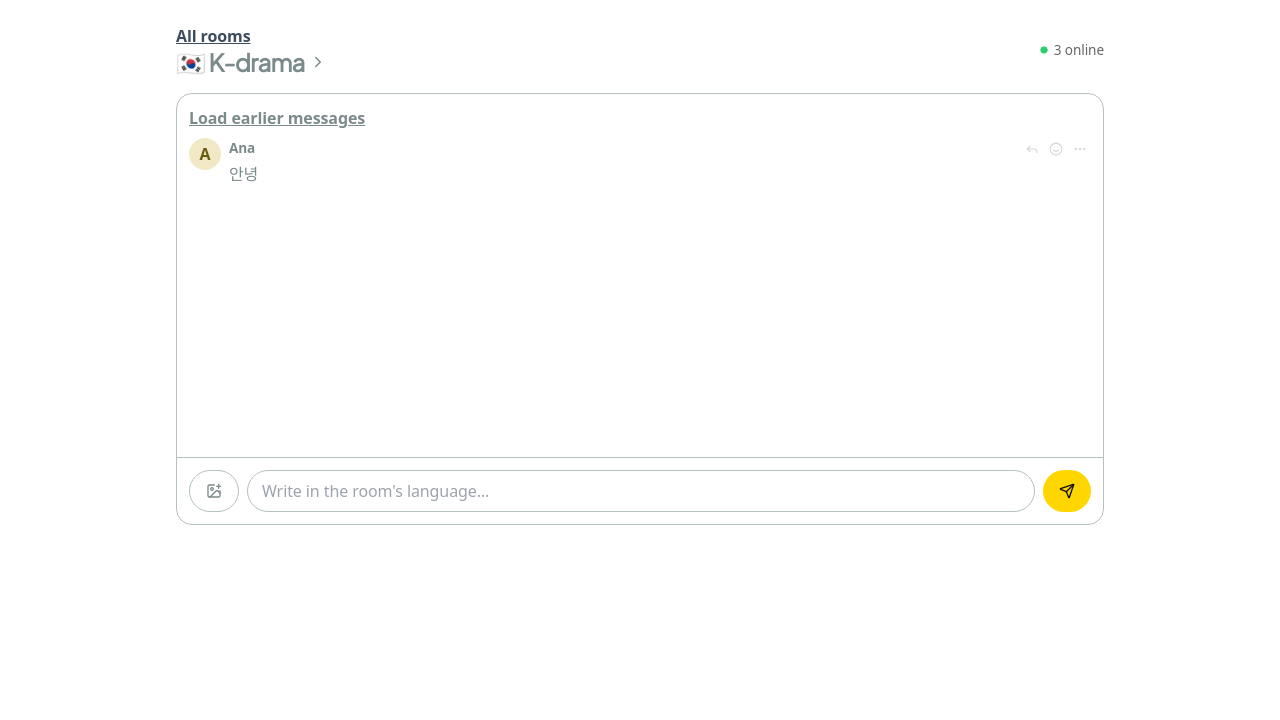
Test: room info offers no edit to ordinary members
Click the button with test id "language-room-title" at [251, 62], box x1=176 y1=48 x2=327 y2=77
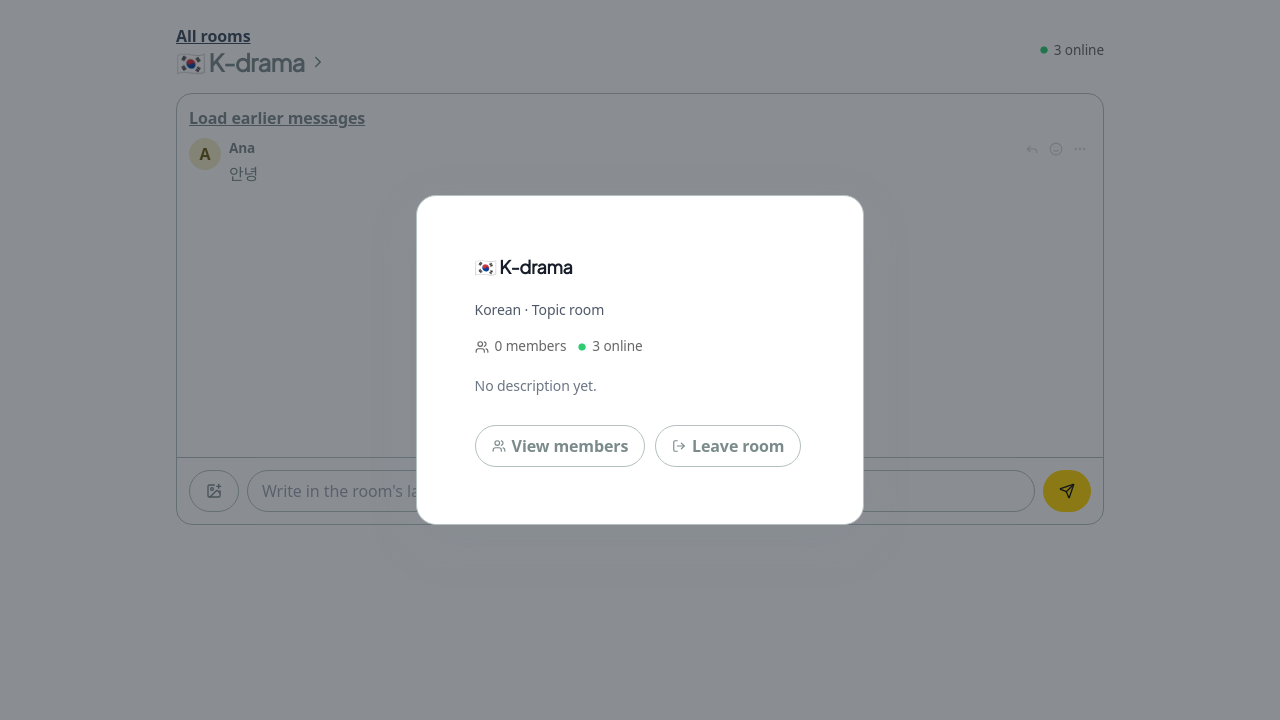
Expected: the button with test id "lr-info-members" is shown, x1=475 y1=425 x2=645 y2=467
